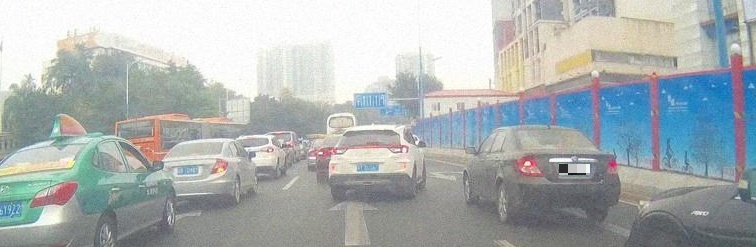L_light: (516, 156, 543, 177), (331, 147, 347, 155)
R_light: (606, 159, 618, 174), (388, 145, 409, 153)
T_light: (357, 145, 379, 148), (541, 129, 557, 133)
day-brake: (513, 126, 621, 224), (329, 125, 410, 201)
plate_1: (559, 164, 590, 175)
